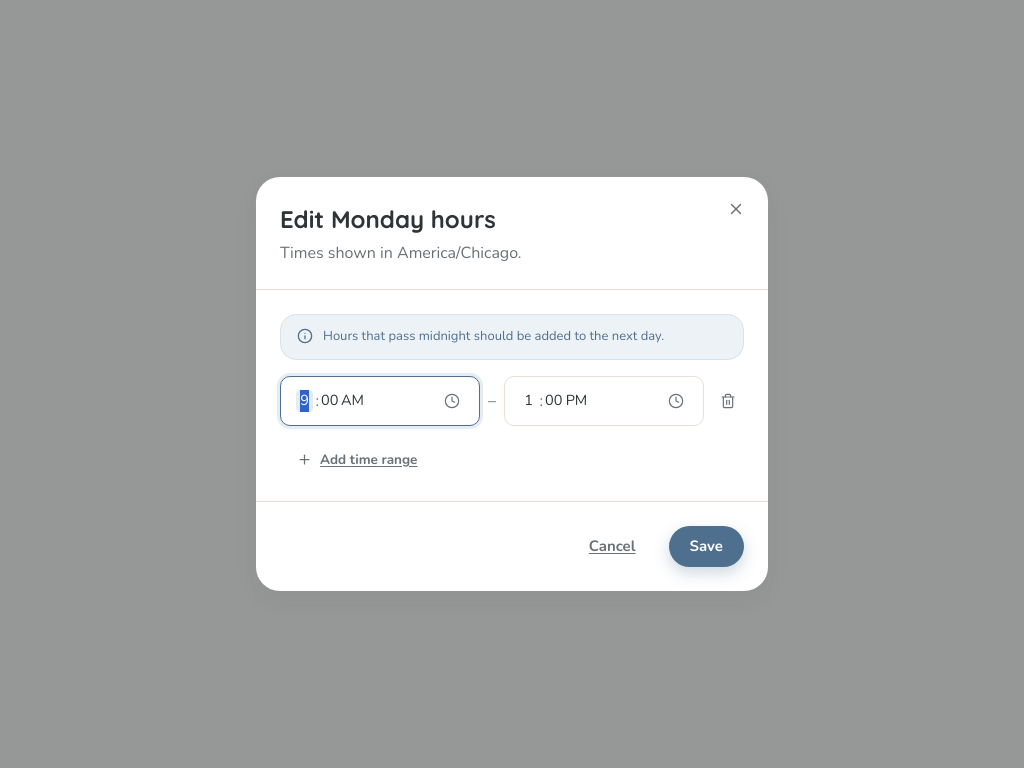
Scenario: DayHoursModal — add / remove ranges › removing a range removes its group from the form
Click the button named "remove range 1" at (728, 401), box 712,385 -> 744,417
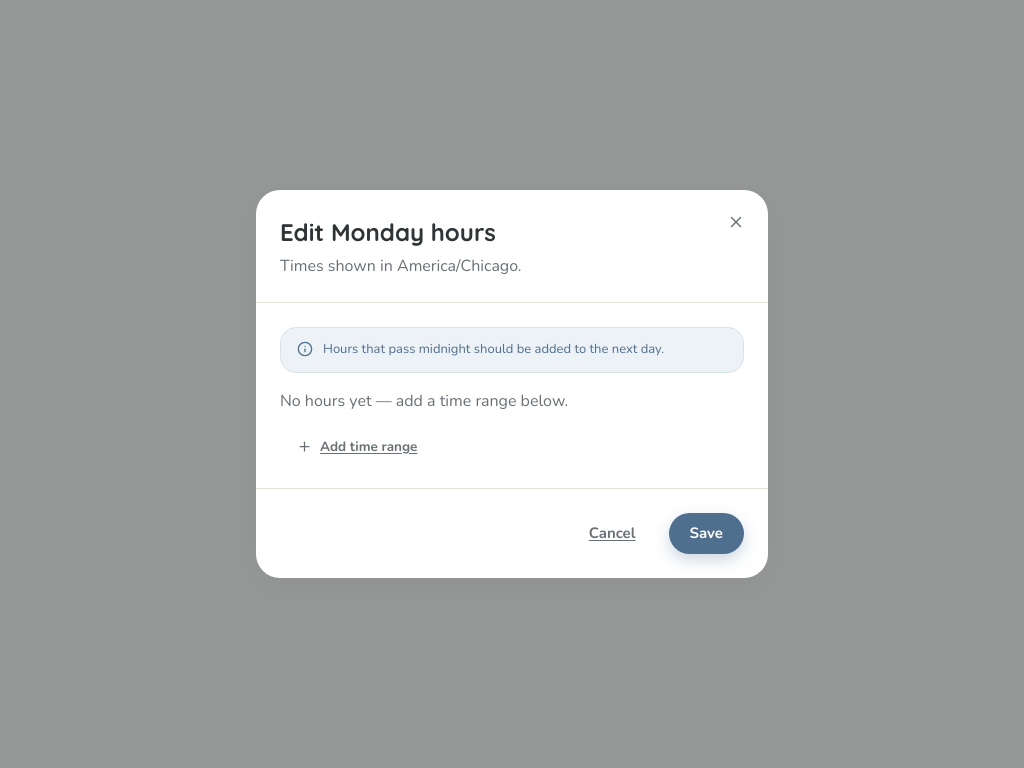
Now the text "No hours yet — add a time range below." is shown, box 280,390 -> 568,412
